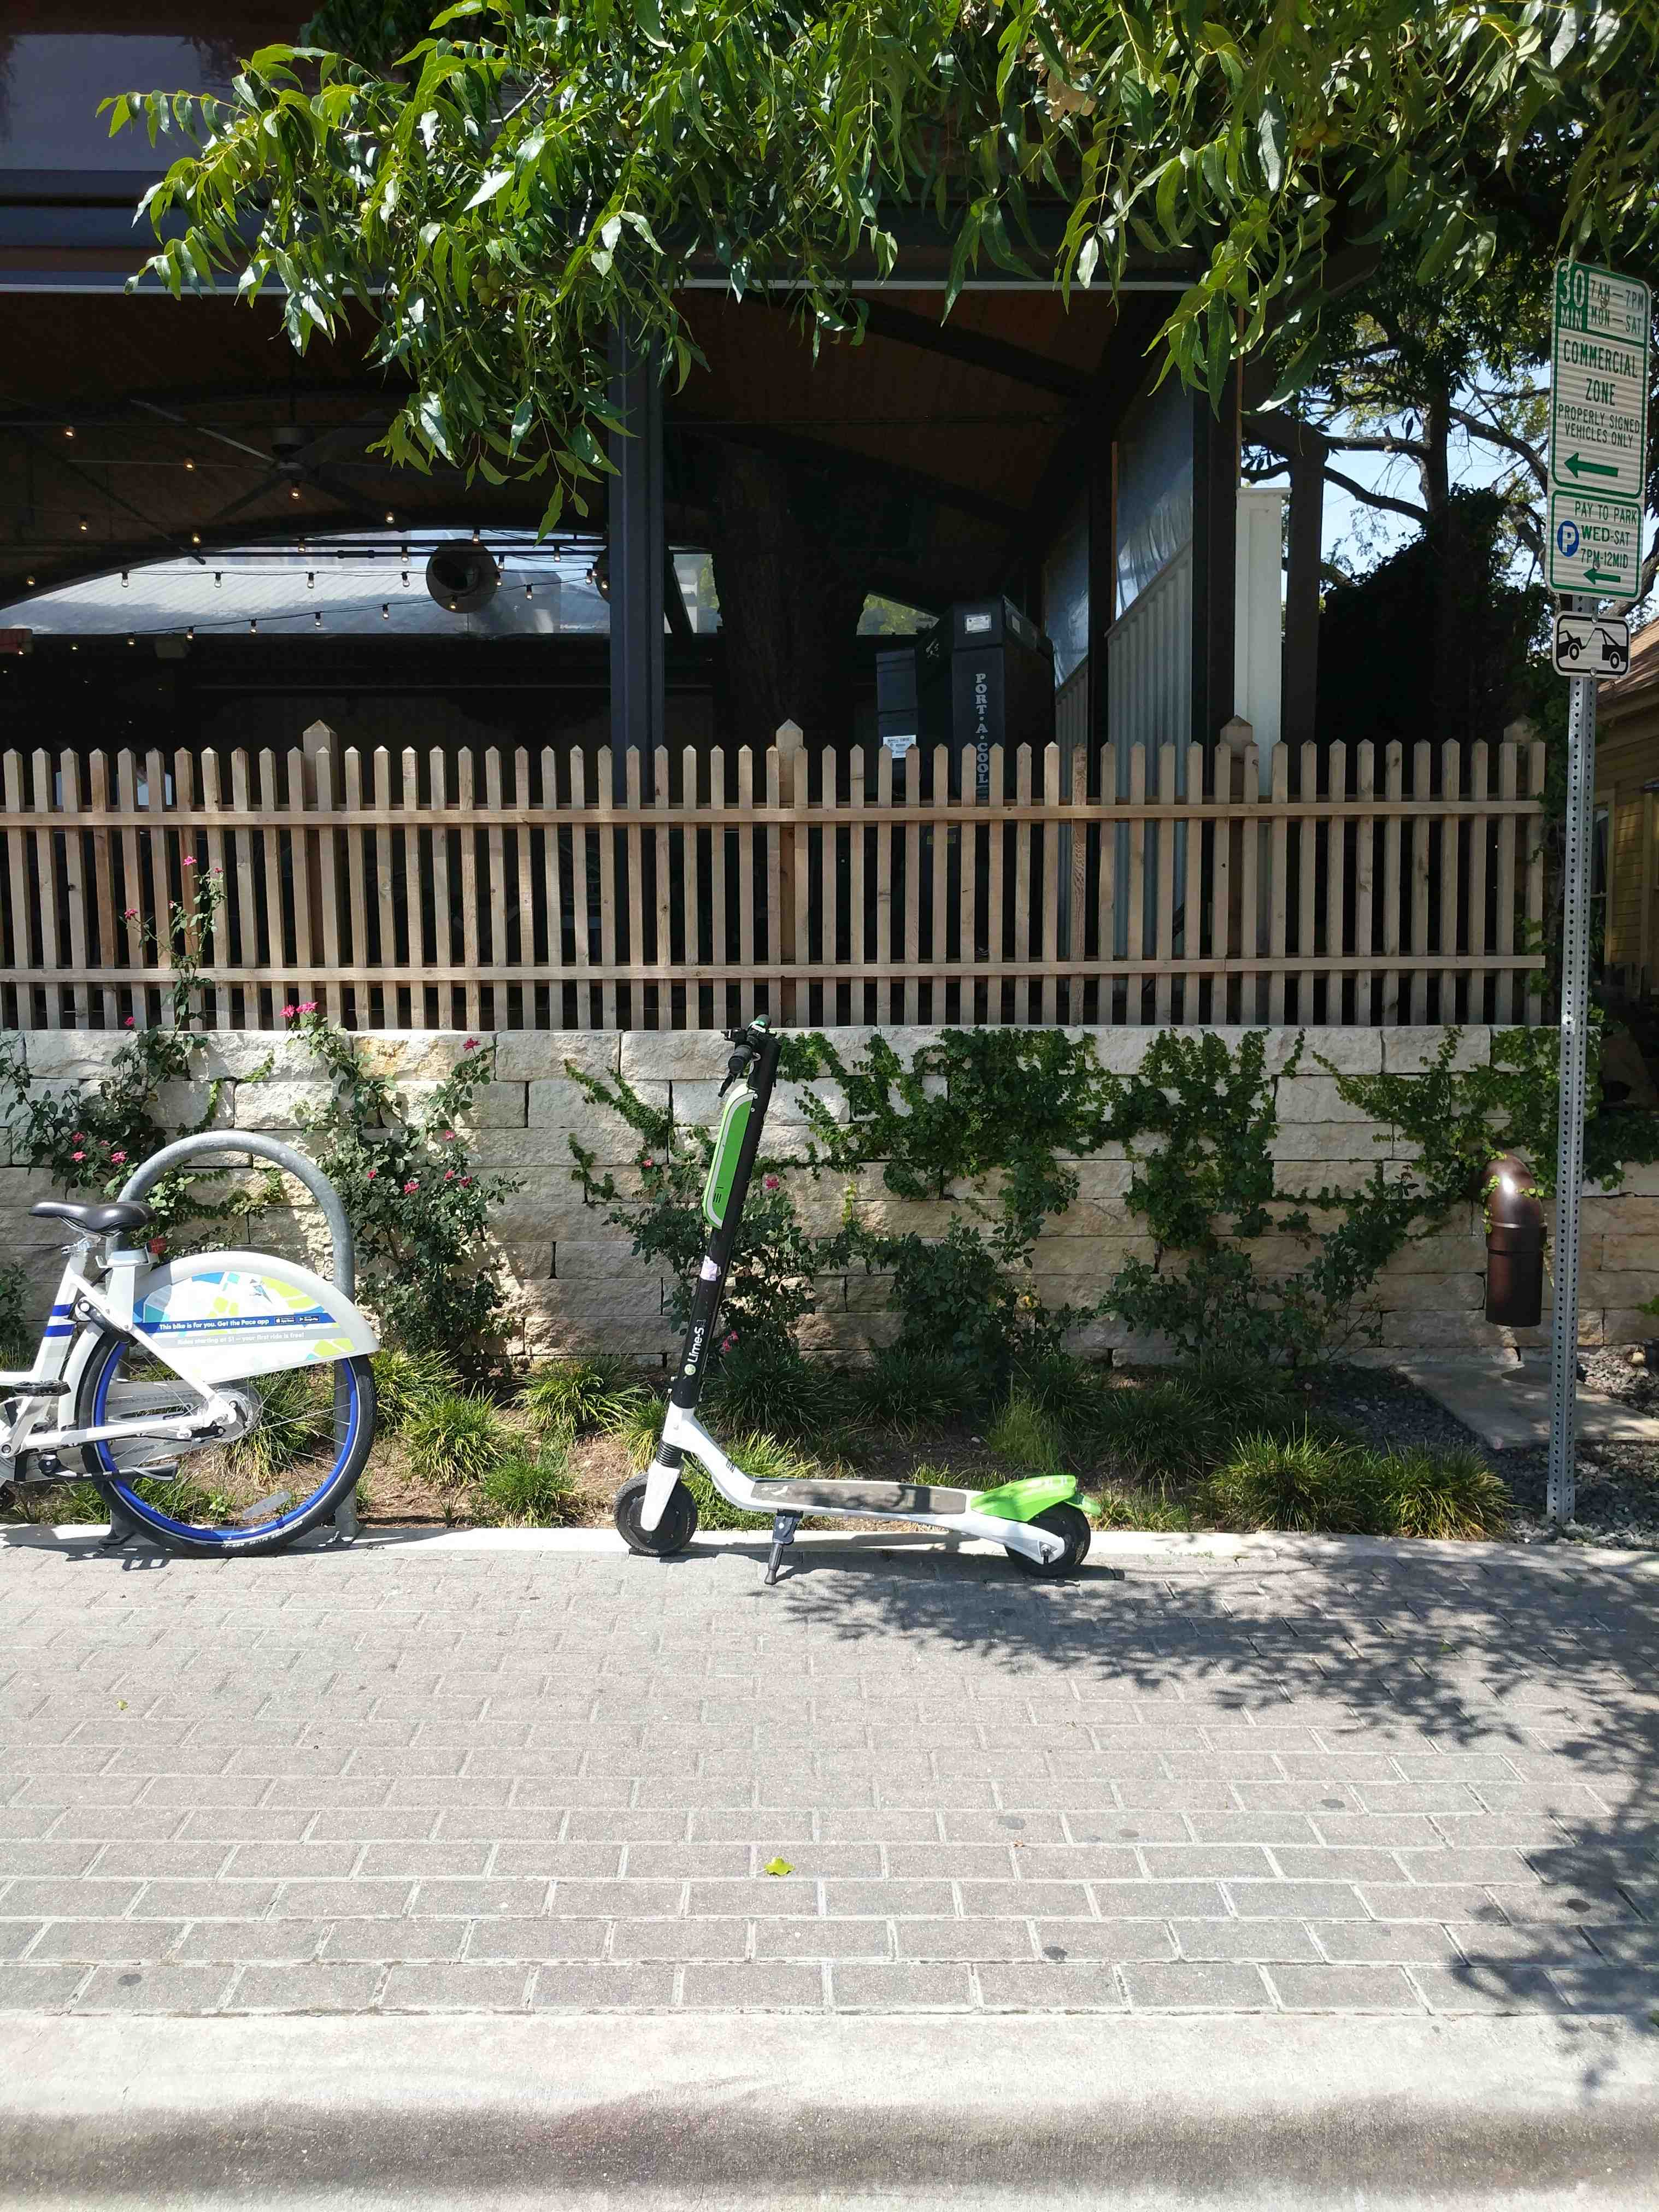scooter: (598, 939, 1152, 1634)
